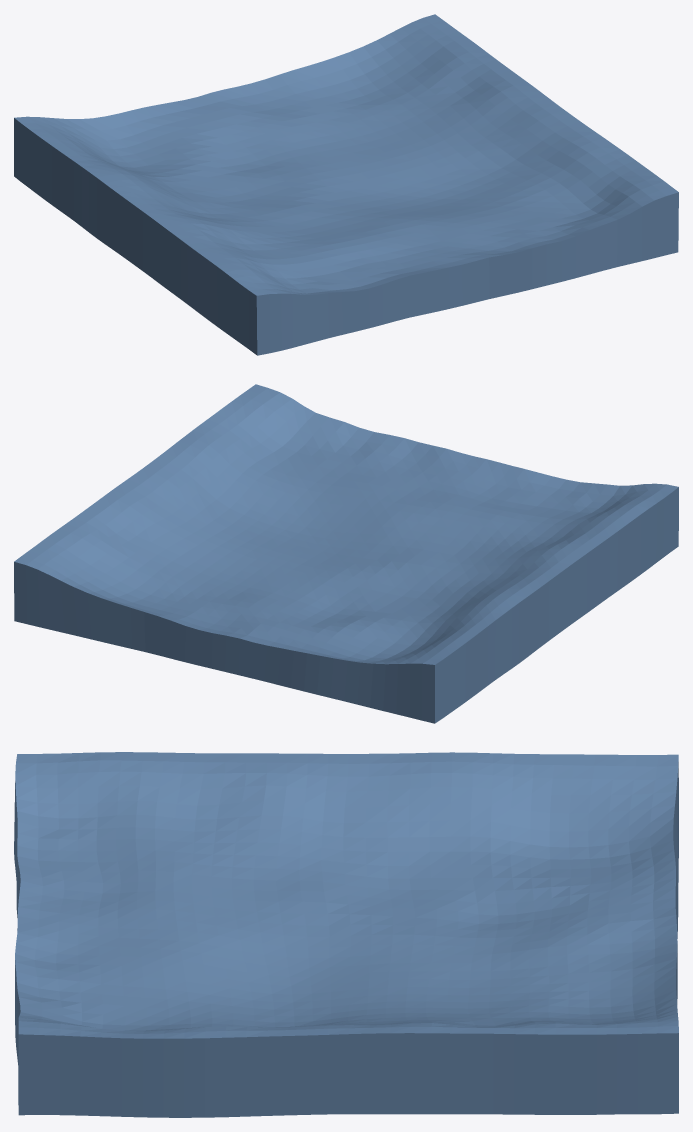
File: Ground_water.fbx
The picture shows the model from 3 angles, top to bottom: view 1: azimuth 30°, elevation 25°; view 2: azimuth 150°, elevation 25°; view 3: azimuth 270°, elevation 25°; orthographic projection. The views are drawn at different scales.
Visible parts, largest first — view 1: Ground_water; view 2: Ground_water; view 3: Ground_water.
Boxes of the visible parts, x1=… form: Ground_water: x1=14, y1=14, x2=678, y2=355; Ground_water: x1=14, y1=384, x2=678, y2=723; Ground_water: x1=14, y1=752, x2=678, y2=1117.
Size of the model in its own units: 10.12 by 1.41 by 10.07.
1 material, 1 textured.
